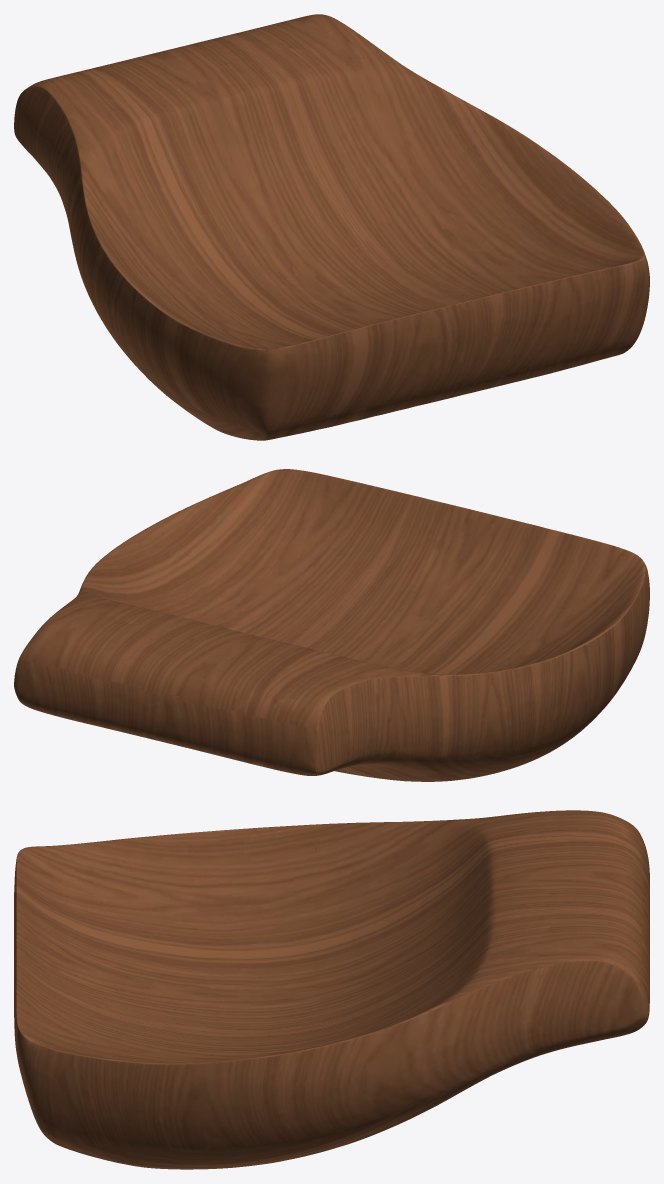
The picture shows the model from 3 angles, top to bottom: view 1: azimuth 30°, elevation 25°; view 2: azimuth 150°, elevation 25°; view 3: azimuth 270°, elevation 25°; orthographic projection. The views are drawn at different scales.
Visible parts, largest first — view 1: Wooden Spatula Rest; view 2: Wooden Spatula Rest; view 3: Wooden Spatula Rest.
Boxes of the visible parts, left/top/right/bottom form: Wooden Spatula Rest: left=14, top=14, right=649, bottom=440; Wooden Spatula Rest: left=14, top=469, right=649, bottom=781; Wooden Spatula Rest: left=14, top=810, right=649, bottom=1169.
Size of the model in its own units: 0.1042 by 0.0437 by 0.119.
1 material, 1 textured.
